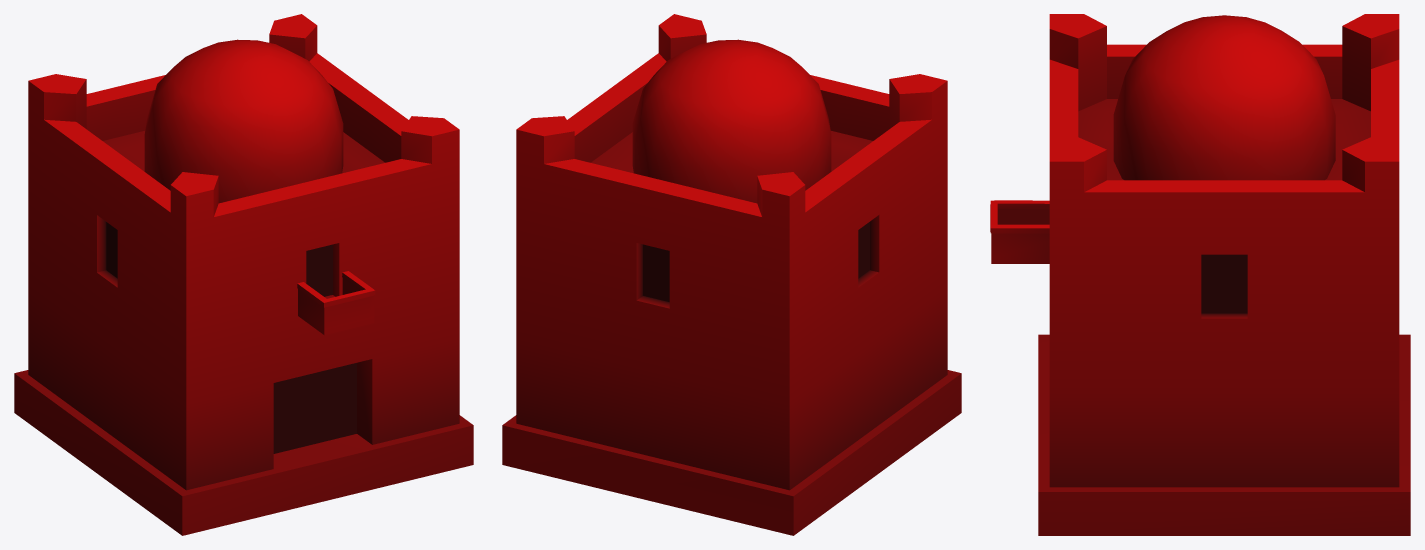
The model's file is buildings-historical-desertbuildingold_v6.fbx.
3 views of the same model, side by side, from view 1: azimuth 30°, elevation 25°; view 2: azimuth 150°, elevation 25°; view 3: azimuth 270°, elevation 25° (orthographic). The views are drawn at different scales.
Parts seen in each view (by area): view 1: DesertBuildingOld_v6; view 2: DesertBuildingOld_v6; view 3: DesertBuildingOld_v6.
Part boxes in pixels (bbox=[...]): DesertBuildingOld_v6: bbox=[14, 14, 473, 535]; DesertBuildingOld_v6: bbox=[502, 14, 961, 535]; DesertBuildingOld_v6: bbox=[990, 14, 1410, 535].
Size of the model in its own units: 12.93 by 16.51 by 14.6.
